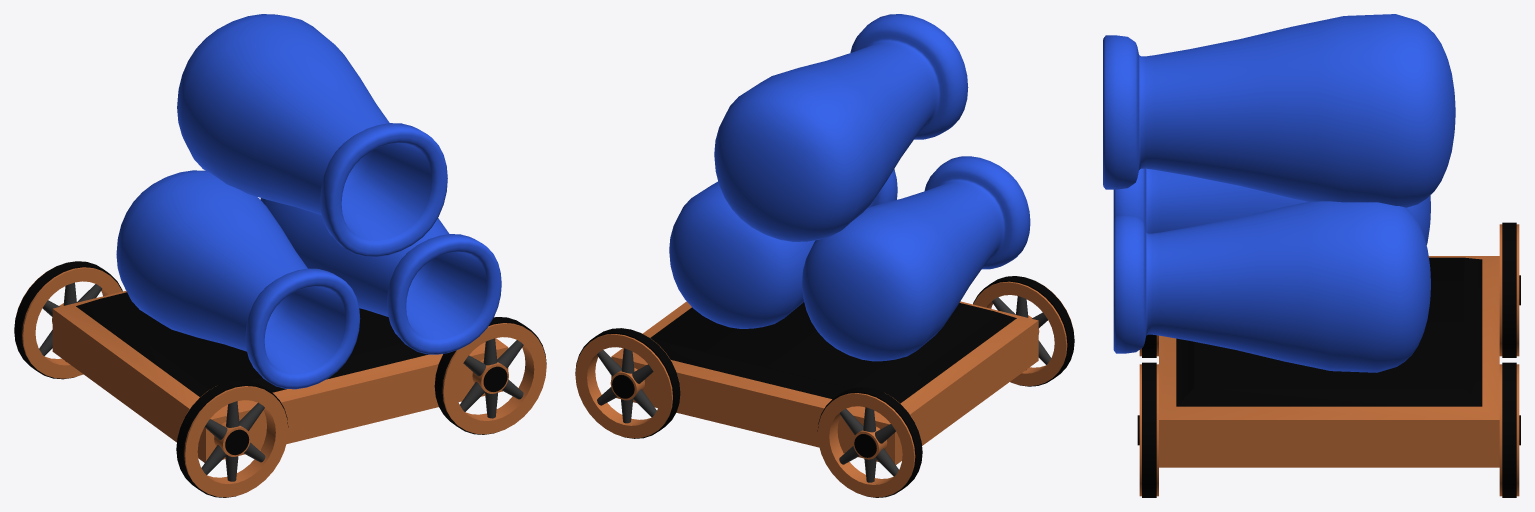
The model's file is Tripple_Cannon.fbx.
3 renders of one model, left to right at view 1: azimuth 30°, elevation 25°; view 2: azimuth 150°, elevation 25°; view 3: azimuth 270°, elevation 25°, orthographic. The views are drawn at different scales.
Parts seen in each view (by area): view 1: Plane.004, Cube.007, Cube.005, Cube.006; view 2: Plane.004, Cube.007, Cube.005, Cube.006; view 3: Cube.007, Plane.004, Cube.006, Cube.005.
Part boxes in pixels (left/top/right/bottom): Plane.004: left=14, top=261, right=546, bottom=497; Cube.007: left=177, top=14, right=447, bottom=257; Cube.005: left=116, top=170, right=360, bottom=389; Cube.006: left=260, top=198, right=501, bottom=354; Plane.004: left=575, top=276, right=1074, bottom=497; Cube.007: left=714, top=14, right=968, bottom=241; Cube.005: left=802, top=156, right=1030, bottom=361; Cube.006: left=669, top=169, right=897, bottom=328; Cube.007: left=1103, top=14, right=1455, bottom=207; Plane.004: left=1137, top=222, right=1520, bottom=497; Cube.006: left=1113, top=201, right=1430, bottom=372; Cube.005: left=1113, top=168, right=1430, bottom=244.
Size of the model in its own units: 2001 by 1899 by 1792.
